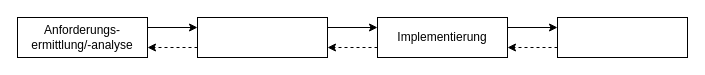
Some shapes in this 705 by 75 pixel diagram are drawn without their labels. The centre of each missing label's shape, as x and y in pixels:
"Softwareentwurf" goes at (x=262, y=37).
"Testen bzw. Qualitätssicherung" goes at (x=622, y=37).
